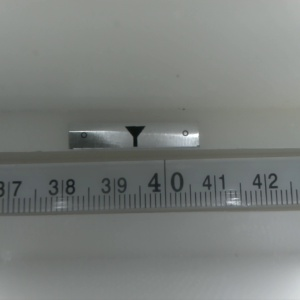0: (170, 172, 184, 192)
1: (218, 175, 224, 190)
2: (267, 173, 277, 188)
3: (100, 177, 110, 193), (48, 180, 58, 195), (0, 181, 6, 197)
4: (147, 172, 161, 192), (251, 173, 262, 188), (201, 175, 211, 190)
7: (11, 181, 22, 196)
8: (64, 179, 75, 194)
9: (116, 177, 126, 193)
finger: (123, 126, 145, 148)
